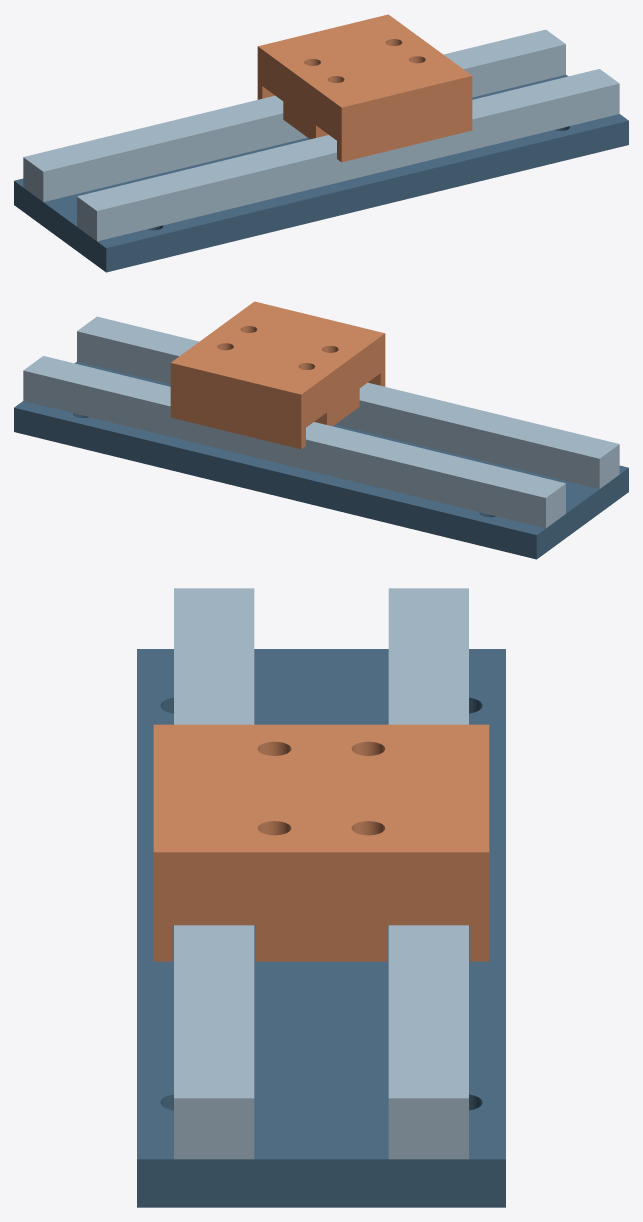
File: linear-guide.glb
3 renders of one model, top to bottom at view 1: azimuth 30°, elevation 25°; view 2: azimuth 150°, elevation 25°; view 3: azimuth 270°, elevation 25°, orthographic. The views are drawn at different scales.
Visible parts, largest first — view 1: 矩形导轨 · 180×12×10 (×2), 开槽滑块 · 45×50×18, 安装底板 · 180×55×8; view 2: 矩形导轨 · 180×12×10 (×2), 开槽滑块 · 45×50×18, 安装底板 · 180×55×8; view 3: 安装底板 · 180×55×8, 开槽滑块 · 45×50×18, 矩形导轨 · 180×12×10 (×2).
Part boxes in pixels (box(x1,y1,x2,y2)): 矩形导轨 · 180×12×10 (×2): box(23, 29, 619, 241); 开槽滑块 · 45×50×18: box(257, 14, 472, 162); 安装底板 · 180×55×8: box(14, 74, 628, 272); 矩形导轨 · 180×12×10 (×2): box(23, 316, 619, 528); 开槽滑块 · 45×50×18: box(170, 301, 385, 449); 安装底板 · 180×55×8: box(14, 361, 628, 559); 安装底板 · 180×55×8: box(137, 649, 505, 1207); 开槽滑块 · 45×50×18: box(153, 724, 489, 961); 矩形导轨 · 180×12×10 (×2): box(174, 588, 468, 1159).
Bounding box in the file's own units: 0.18 × 0.034 × 0.055.
